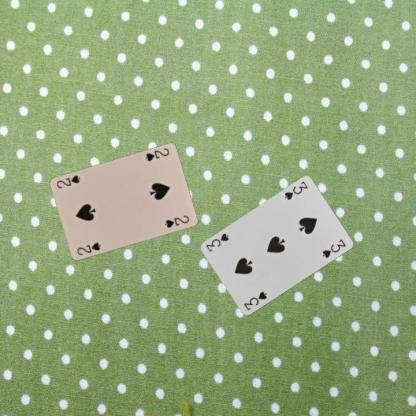2s: (143, 146, 170, 163), (74, 240, 102, 256)
3s: (282, 178, 309, 202), (241, 289, 268, 312)
